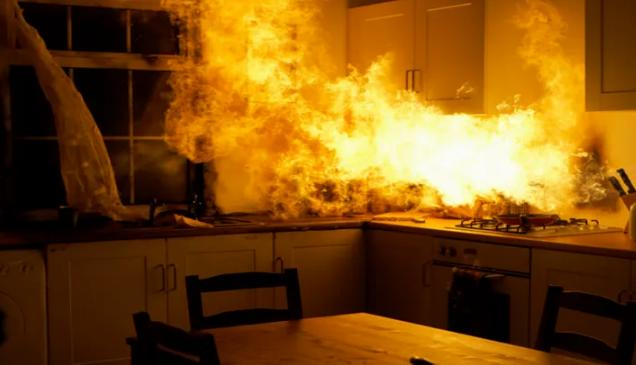fire: (144, 0, 599, 242)
